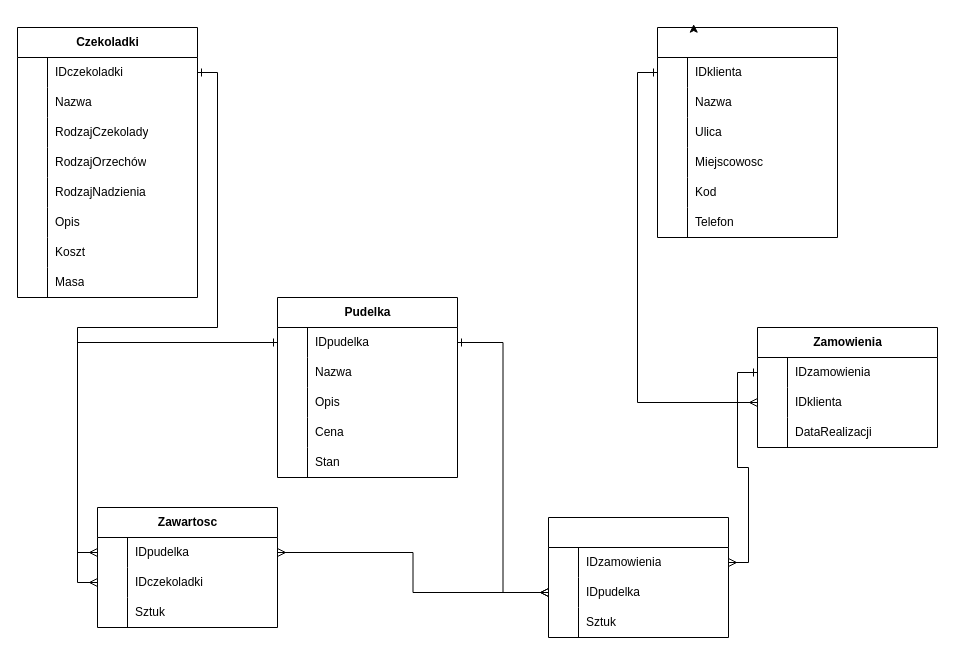
Some shapes in this 955 by 656 pixel diagram are drawn without their labels. The shapes that lost their labels are listed below. From the top down, each one's box as (x1, y1, x2, y2) in pixels, then its label:
(656, 26, 838, 238): Klienci
(548, 516, 728, 638): Artykuly
